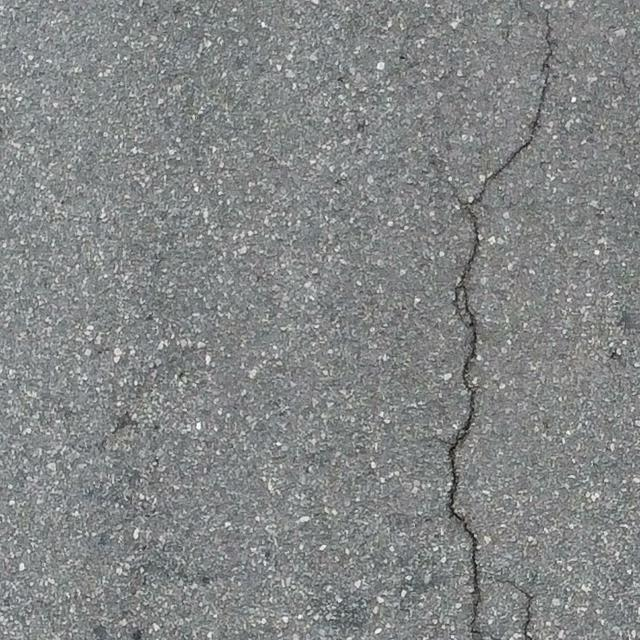LongitudinalCrack: (442, 6, 556, 640)
